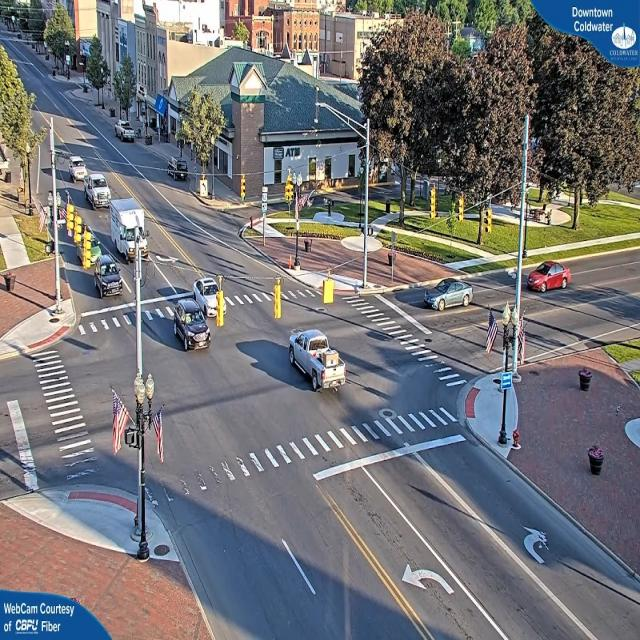car: (288, 330, 344, 394), (170, 298, 214, 351), (424, 276, 474, 310), (526, 260, 571, 294), (195, 280, 230, 318), (83, 172, 111, 212), (92, 259, 124, 294), (165, 158, 189, 180), (116, 123, 136, 143)
truck: (113, 202, 149, 267)
